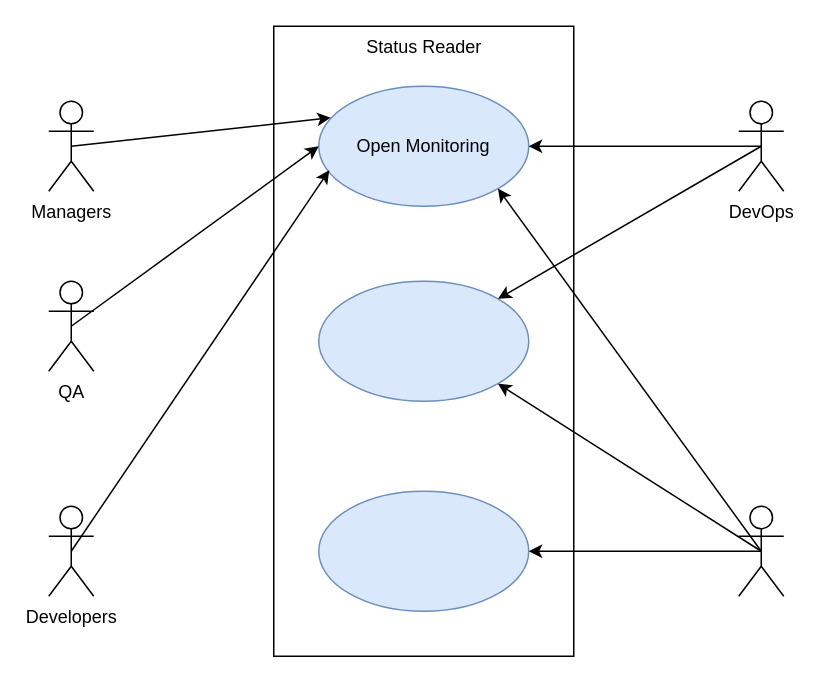
This 819x683 diagram has some shape labels left out. The centre of each missing label's shape, as x and y in pixels:
"Admin" goes at (x=760, y=550).
"Edit Security" goes at (x=423, y=550).
"Edit Settings" goes at (x=423, y=340).
